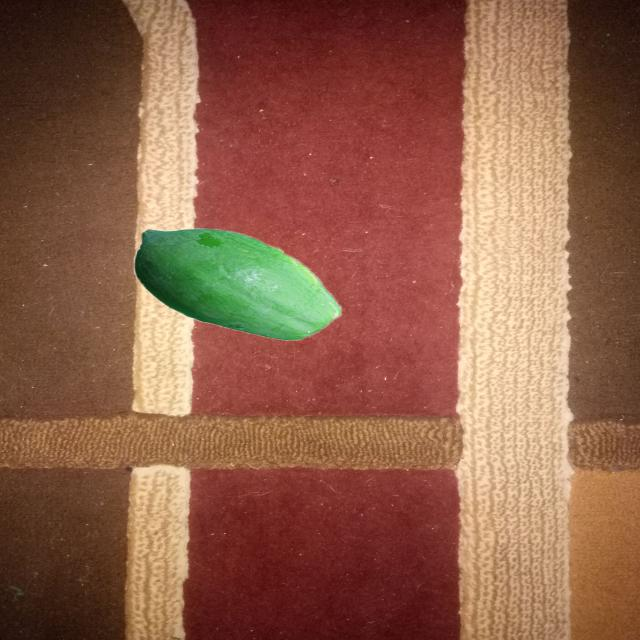Pepaya unrippen: (128, 226, 346, 348)
